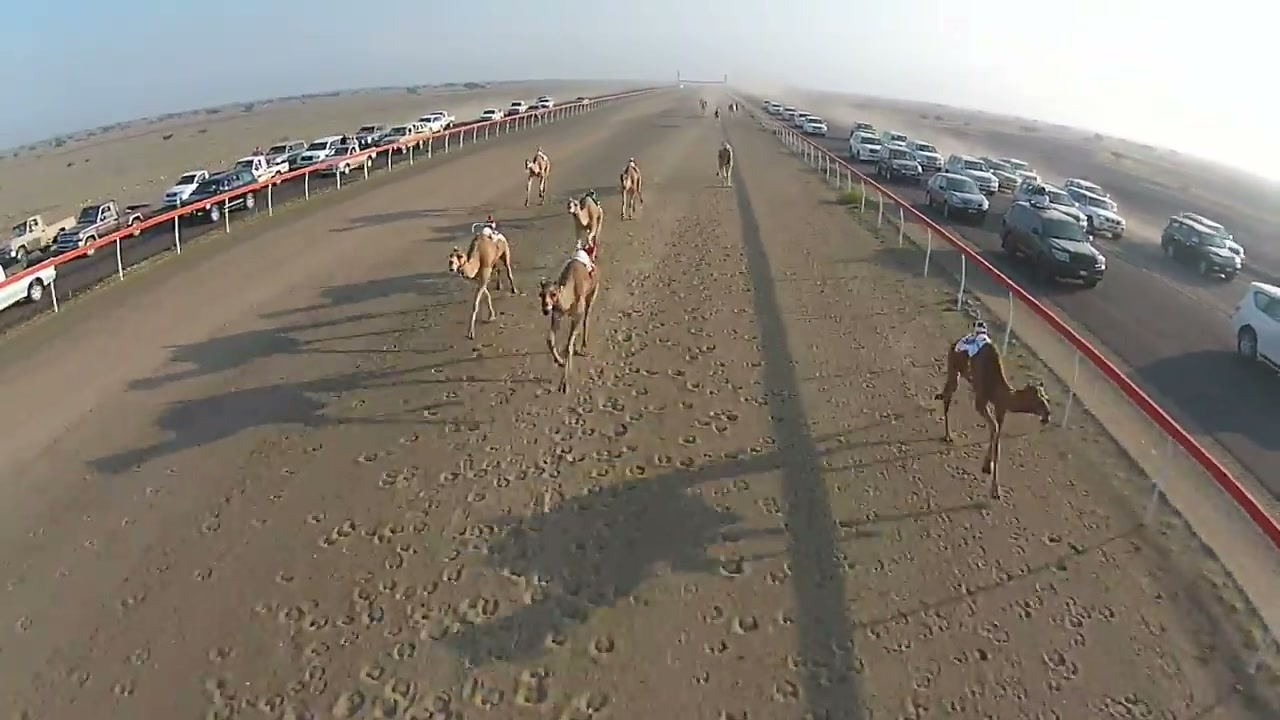animal_foot_print: (193, 348, 622, 719)
